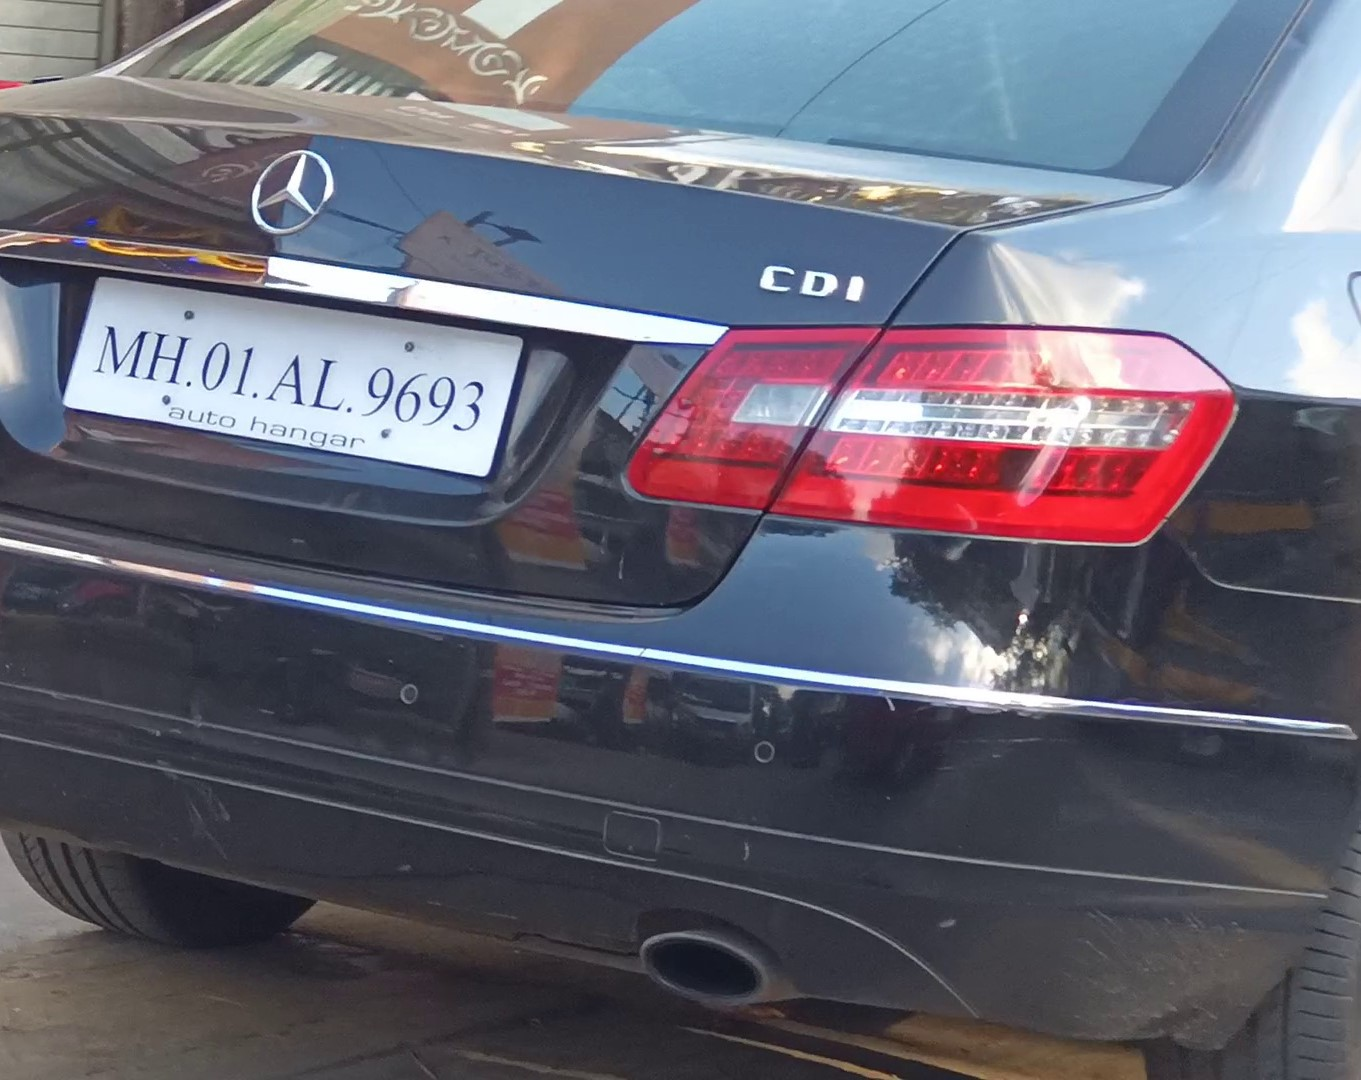MH01AL9693: (60, 270, 527, 478)
